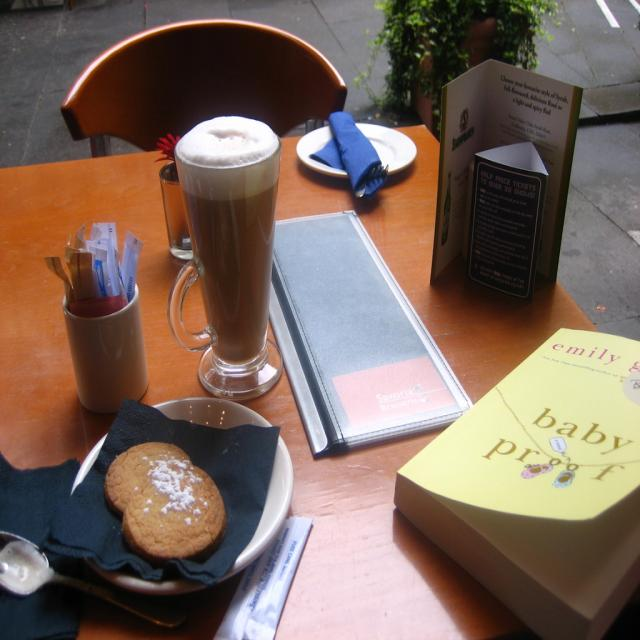Coffee: (167, 114, 279, 366)
